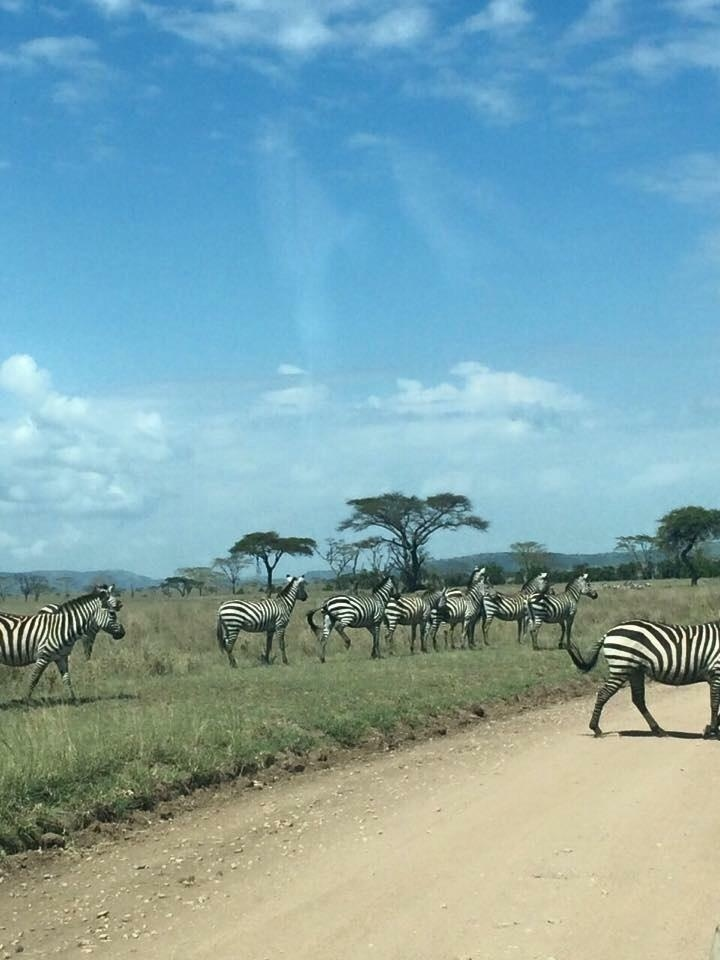zebra: (558, 614, 719, 741), (1, 582, 124, 698), (301, 567, 405, 674), (212, 573, 314, 673), (480, 560, 556, 663), (527, 567, 600, 661), (27, 599, 135, 660), (383, 578, 455, 660), (433, 574, 495, 658)
